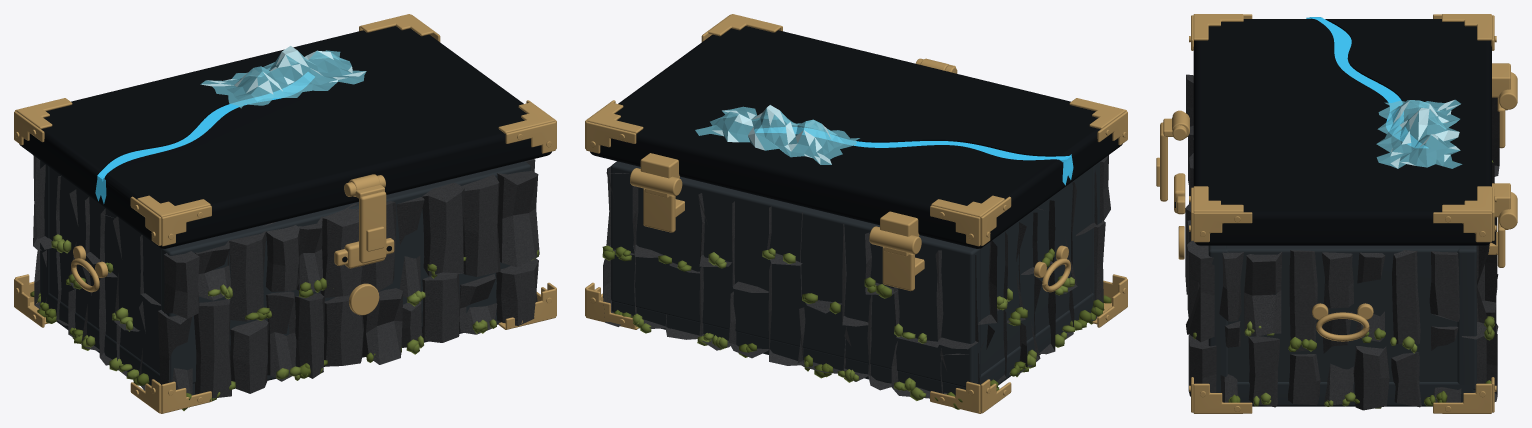
Rendered from iceland.glb.
3 views of the same model, side by side, from view 1: azimuth 30°, elevation 25°; view 2: azimuth 150°, elevation 25°; view 3: azimuth 270°, elevation 25° (orthographic). The views are drawn at different scales.
Visible parts, largest first — view 1: Lid / polished slab, Interior wall / end, Interior wall / front, Glacier / asymmetric raised ice ridge, Basalt fracture / front.021, Basalt fracture / front.017, Basalt fracture / front.019, Basalt fracture / front.002, Basalt fracture / front.005, Basalt fracture / front.011, Basalt fracture / front.004, Basalt fracture / front.012 (+34 smaller); view 2: Lid / polished slab, Interior wall / rear, Interior wall / end, Interior floor, Glacier / asymmetric raised ice ridge, River / inset organic blue, Hinge / fixed mount, Hinge / fixed mount.001, Basalt fracture / rear.001, Corner strap / wrapped y.002, Corner strap / wrapped y.006, Corner strap / wrapped y.003 (+24 smaller); view 3: Lid / polished slab, Interior wall / end.001, Glacier / asymmetric raised ice ridge, Basalt fracture / right.003, Interior wall / rear, Basalt fracture / right.005, Basalt fracture / right.011, Basalt fracture / right.008, Basalt fracture / front.021, Basalt fracture / right.013, River / inset organic blue, Basalt fracture / right.002 (+32 smaller).
Boxes of the visible parts, x1,y1,x2,y2 form: Lid / polished slab: (19, 26, 551, 248); Interior wall / end: (49, 167, 160, 373); Interior wall / front: (161, 161, 530, 383); Glacier / asymmetric raised ice ridge: (200, 46, 366, 108); Basalt fracture / front.021: (497, 170, 539, 267); Basalt fracture / front.017: (422, 182, 464, 276); Basalt fracture / front.019: (462, 174, 500, 276); Basalt fracture / front.002: (194, 298, 231, 398); Basalt fracture / front.005: (229, 231, 266, 321); Basalt fracture / front.011: (320, 203, 362, 297); Basalt fracture / front.004: (230, 319, 268, 393); Basalt fracture / front.012: (362, 288, 403, 364); Lid / polished slab: (590, 26, 1122, 248); Interior wall / rear: (611, 161, 980, 387); Interior wall / end: (981, 167, 1092, 374); Interior floor: (612, 293, 1094, 395); Glacier / asymmetric raised ice ridge: (695, 105, 859, 164); River / inset organic blue: (754, 127, 1071, 162); Hinge / fixed mount: (882, 247, 914, 290); Hinge / fixed mount.001: (643, 188, 675, 232); Basalt fracture / rear.001: (935, 250, 978, 349); Corner strap / wrapped y.002: (930, 205, 980, 246); Corner strap / wrapped y.006: (586, 121, 636, 153); Corner strap / wrapped y.003: (930, 381, 980, 413); Lid / polished slab: (1193, 19, 1491, 245); Interior wall / end.001: (1226, 245, 1459, 381); Glacier / asymmetric raised ice ridge: (1376, 99, 1462, 168); Basalt fracture / right.003: (1244, 251, 1282, 336); Interior wall / rear: (1457, 245, 1476, 389); Basalt fracture / right.005: (1289, 250, 1317, 351); Basalt fracture / right.011: (1392, 250, 1420, 344); Basalt fracture / right.008: (1353, 346, 1389, 410); Basalt fracture / front.021: (1187, 241, 1214, 342); Basalt fracture / right.013: (1429, 251, 1459, 321); River / inset organic blue: (1309, 17, 1427, 147); Basalt fracture / right.002: (1248, 336, 1279, 407).
Bounding box in the file's own units: 3.83 × 2.07 × 2.88.
Materials: 15 (5 with a texture image).
